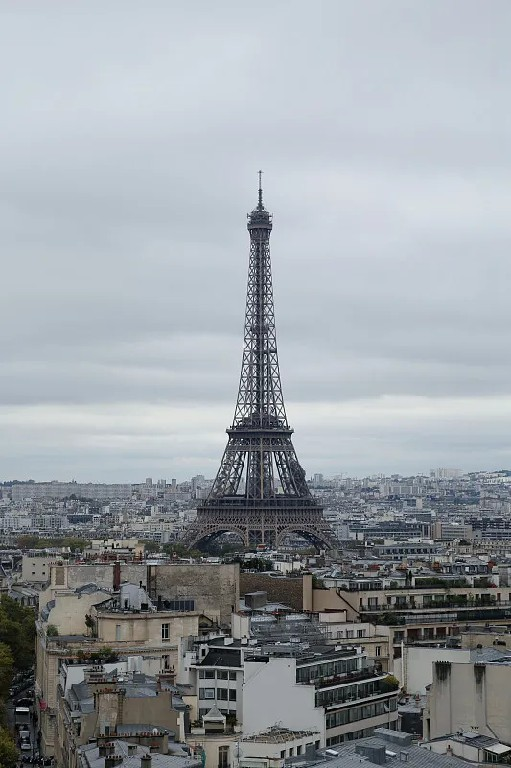Eiffel: (178, 169, 340, 549)
